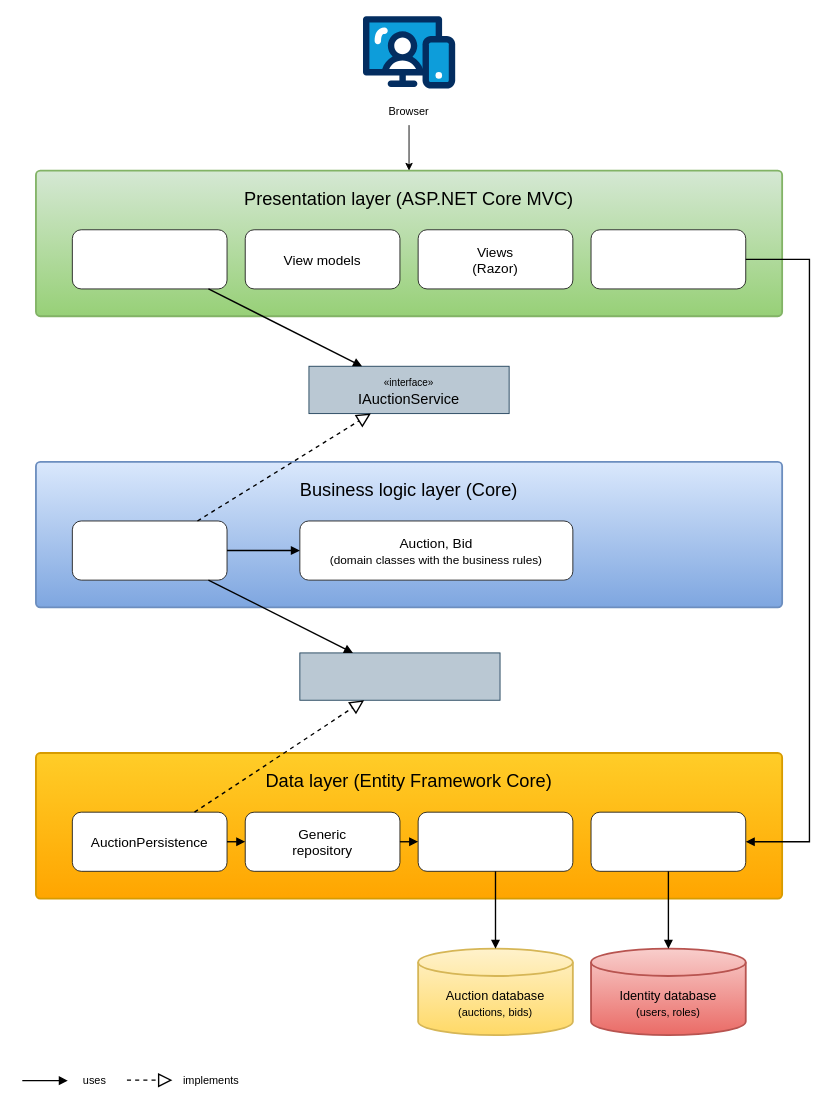
Image size: 834x1109. Some labels were removed from this diagram. Each missing label, with the centre of its shape:
AuctionDbContext (AuctionDb, BidDb): point 495,841
AuctionService: point 149,550
Controllers: point 149,259
Identity UI (Razor Pages): point 668,259
IdentityDbContext: point 668,841
«interface» IAuctionPersistence: point 399,676
